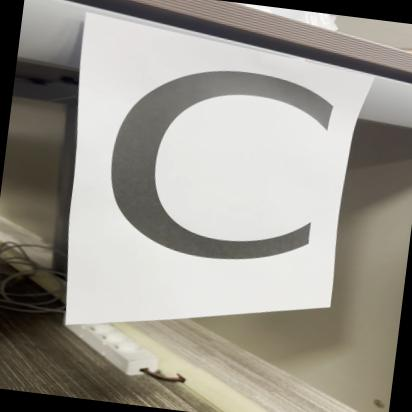seat: (88, 30, 354, 294)
